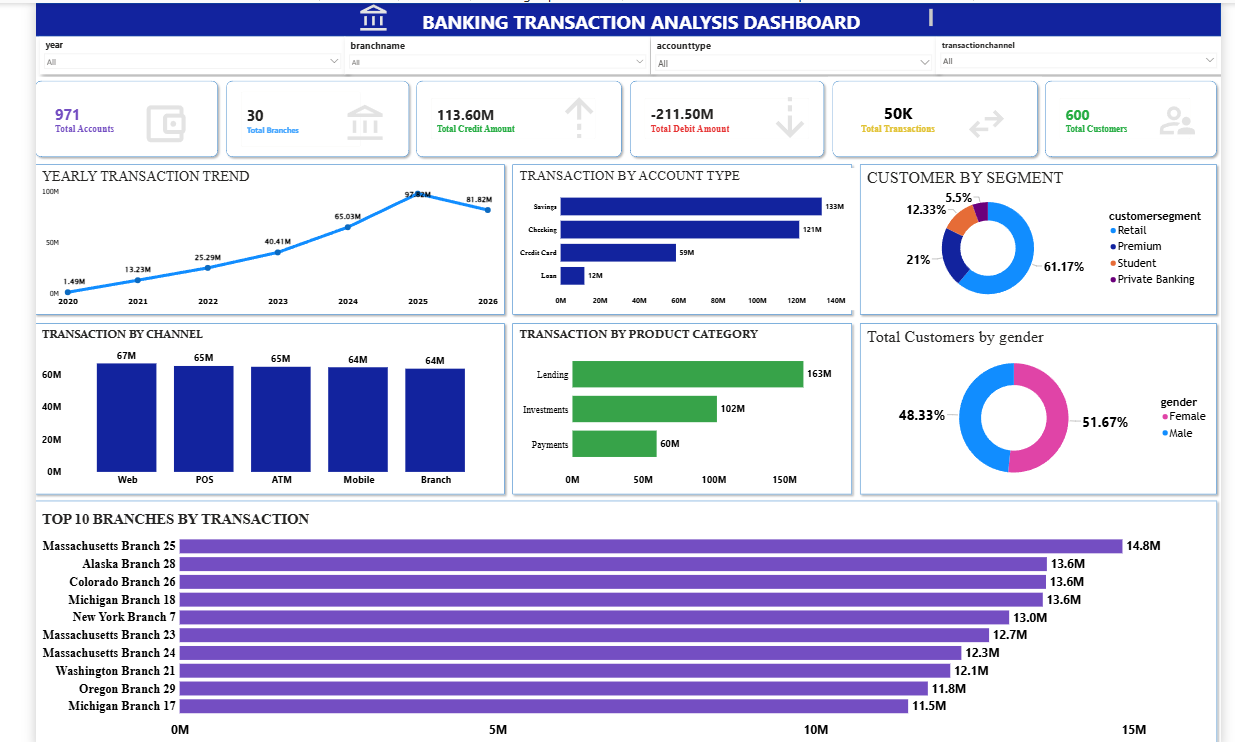

What the dashboard file says about the page in this screenshot:
{"tool":"powerbi","page":{"name":"FINAL","canvas":[2700,1700],"ordinal":9},"visuals":[{"type":"group","id":"g1","title":"Group 2","box":[-12,0,2712,144],"z":0},{"type":"shape","box":[-12,0,2712,75.8],"z":0,"group":"g1"},{"type":"slicer","fields":{"Values":["public dimdate.year"]},"box":[7.7,75.8,696.3,85.3],"z":0,"group":"g10"},{"type":"group","id":"g2","title":"Group 3","box":[-12,168,2712,192],"z":0,"group":"g5"},{"type":"group","id":"g3","title":"Group 6","box":[-12,360,2712,360],"z":0,"group":"g8"},{"type":"shape","box":[-12,1124,2712,576],"z":0,"group":"g9"},{"type":"group","id":"g4","title":"Group 1","box":[7.7,75.8,2692.3,68.2],"z":1000,"group":"g1"},{"type":"slicer","fields":{"Values":["public dimbranch.branchname"]},"box":[704,75.8,696.3,85.3],"z":1000,"group":"g10"},{"type":"group","id":"g5","title":"Group 4","box":[-12,168,2712,192],"z":1000,"group":"g11"},{"type":"shape","box":[1344,168,460.5,192],"z":1000,"group":"g2"},{"type":"cardVisual","fields":{"Data":["public dimaccount.Total Transactions"]},"box":[1815.7,192,294.8,144],"z":1000,"group":"g5"},{"type":"group","id":"g6","title":"Group 5","box":[-12,720,2712,408],"z":1000,"group":"g7"},{"type":"clusteredBarChart","title":"TOP 10 BRANCHES BY TRANSACTION","fields":{"Category":["public dimbranch.branchname"],"Y":["public dimaccount.Total Transaction Volume"]},"box":[7.9,1154,2672.1,528],"z":1000,"group":"g9"},{"type":"textbox","box":[717.2,9.5,1330.4,56.8],"z":2000,"group":"g1"},{"type":"slicer","fields":{"Values":["public dimaccount.accounttype"]},"box":[1400.3,75.8,649.9,85.3],"z":2000,"group":"g10"},{"type":"shape","box":[1804.5,168,486.1,192],"z":2000,"group":"g2"},{"type":"cardVisual","fields":{"Data":["public dimaccount.Total Customers"]},"box":[2316.2,200,332.6,128],"z":2000,"group":"g5"},{"type":"group","id":"g7","title":"Group 7","box":[-12,720,2712,408],"z":2000},{"type":"slicer","fields":{"Values":["public facttransaction.transactionchannel"]},"box":[2050.2,75.8,649.9,85.3],"z":3000,"group":"g10"},{"type":"shape","box":[2290.6,168,409.4,192],"z":3000,"group":"g2"},{"type":"cardVisual","fields":{"Data":["public dimaccount.Total Accounts"]},"box":[13.6,184,332.6,160],"z":3000,"group":"g5"},{"type":"group","id":"g8","title":"Group 8","box":[-12,360,2712,360],"z":3000},{"type":"shape","box":[-12,360,1088.8,360],"z":3000,"group":"g3"},{"type":"shape","box":[422.9,168,434.9,192],"z":4000,"group":"g2"},{"type":"cardVisual","fields":{"Data":["public dimaccount.Total Branches"]},"box":[448.5,184,307,160],"z":4000,"group":"g5"},{"type":"lineChart","title":"YEARLY TRANSACTION TREND","fields":{"Category":["public dimdate.year"],"Y":["public dimaccount.Total Transaction Volume"]},"box":[7.8,378,1049.2,324],"z":4000,"group":"g8"},{"type":"group","id":"g9","title":"Group 9","box":[-12,1124,2712,576],"z":4000},{"type":"group","id":"g10","title":"Group 10","box":[7.7,75.8,2692.3,68.2],"z":4001,"group":"g4"},{"type":"image","box":[608,8,288,48],"z":5000},{"type":"shape","box":[-12,168,434.9,192],"z":5000,"group":"g2"},{"type":"shape","box":[1076.8,360,791.8,360],"z":5000,"group":"g3"},{"type":"clusteredBarChart","title":"TRANSACTION BY ACCOUNT TYPE","fields":{"Category":["public dimaccount.accounttype"],"Y":["public dimaccount.Total Transaction Volume"]},"box":[1096.6,378,772,324],"z":5000,"group":"g8"},{"type":"shape","box":[857.9,168,486.1,192],"z":6000,"group":"g2"},{"type":"image","box":[1167.1,216,157.2,112],"z":6000,"group":"g5"},{"type":"image","box":[646.3,228,206.3,96],"z":6000,"group":"g11"},{"type":"clusteredColumnChart","title":"TRANSACTION BY CHANNEL","fields":{"Category":["public facttransaction.transactionchannel"],"Y":["public dimaccount.Total Transaction Volume"]},"box":[7.8,737,1049.2,374],"z":6000,"group":"g7"},{"type":"cardVisual","fields":{"Data":["public dimaccount.Total Credit Amount"]},"box":[883.5,200,409.4,128],"z":7000,"group":"g5"},{"type":"image","box":[1972.9,228,383.2,96],"z":7000,"group":"g11"},{"type":"shape","box":[1868.6,360,831.4,360],"z":7000,"group":"g3"},{"type":"donutChart","fields":{"Category":["public dimcustomer.gender"],"Y":["public dimaccount.Total Customers"]},"box":[1888.4,737,791.8,374],"z":7000,"group":"g7"},{"type":"cardVisual","fields":{"Data":["public dimaccount.Total Debit Amount"]},"box":[1369.6,200,409.4,128],"z":8000,"group":"g5"},{"type":"image","box":[2533,220,137.6,96],"z":8000,"group":"g11"},{"type":"donutChart","title":"CUSTOMER BY SEGMENT","fields":{"Category":["public dimcustomer.customersegment"],"Y":["public dimaccount.Total Customers"]},"box":[1888.4,378,791.8,324],"z":8000,"group":"g8"},{"type":"image","box":[174.7,220,235.8,112],"z":9000,"group":"g11"},{"type":"barChart","title":"TRANSACTION BY PRODUCT CATEGORY","fields":{"Y":["public dimaccount.Total Transaction Volume"],"Category":["public dimproductcategory.productcategoryname"]},"box":[1096.6,737,752.2,374],"z":9000,"group":"g7"},{"type":"image","box":[1629,204,176.9,112],"z":10000,"group":"g11"},{"type":"image","box":[1137.7,204,196.5,112],"z":11000,"group":"g11"},{"type":"group","id":"g11","title":"Group 11","box":[-12,168,2712,192],"z":11001},{"type":"shape","box":[1076.8,720,791.8,408],"z":13000,"group":"g6"},{"type":"shape","box":[-12,720,1088.8,408],"z":13500,"group":"g6"},{"type":"shape","box":[1868.6,720,831.4,408],"z":14000,"group":"g6"}]}

Visuals, with their boxes on the page's 2700x1700 design canvas (x1, y1, x2, y2). These are canvas units, not pixel positions in the 1235x742 screenshot, which may show the page scaled, cropped or inside an application window:
"Group 2" group: (left=-12, top=0, right=2700, bottom=144)
shape: (left=-12, top=0, right=2700, bottom=76)
slicer - public dimdate.year: (left=8, top=76, right=704, bottom=161)
"Group 3" group: (left=-12, top=168, right=2700, bottom=360)
"Group 6" group: (left=-12, top=360, right=2700, bottom=720)
shape: (left=-12, top=1124, right=2700, bottom=1700)
"Group 1" group: (left=8, top=76, right=2700, bottom=144)
slicer - public dimbranch.branchname: (left=704, top=76, right=1400, bottom=161)
"Group 4" group: (left=-12, top=168, right=2700, bottom=360)
shape: (left=1344, top=168, right=1804, bottom=360)
cardVisual - public dimaccount.Total Transactions: (left=1816, top=192, right=2110, bottom=336)
"Group 5" group: (left=-12, top=720, right=2700, bottom=1128)
"TOP 10 BRANCHES BY TRANSACTION" clusteredBarChart: (left=8, top=1154, right=2680, bottom=1682)
textbox: (left=717, top=10, right=2048, bottom=66)
slicer - public dimaccount.accounttype: (left=1400, top=76, right=2050, bottom=161)
shape: (left=1804, top=168, right=2291, bottom=360)
cardVisual - public dimaccount.Total Customers: (left=2316, top=200, right=2649, bottom=328)
"Group 7" group: (left=-12, top=720, right=2700, bottom=1128)
slicer - public facttransaction.transactionchannel: (left=2050, top=76, right=2700, bottom=161)
shape: (left=2291, top=168, right=2700, bottom=360)
cardVisual - public dimaccount.Total Accounts: (left=14, top=184, right=346, bottom=344)
"Group 8" group: (left=-12, top=360, right=2700, bottom=720)
shape: (left=-12, top=360, right=1077, bottom=720)
shape: (left=423, top=168, right=858, bottom=360)
cardVisual - public dimaccount.Total Branches: (left=448, top=184, right=756, bottom=344)
"YEARLY TRANSACTION TREND" lineChart: (left=8, top=378, right=1057, bottom=702)
"Group 9" group: (left=-12, top=1124, right=2700, bottom=1700)
"Group 10" group: (left=8, top=76, right=2700, bottom=144)
image: (left=608, top=8, right=896, bottom=56)
shape: (left=-12, top=168, right=423, bottom=360)
shape: (left=1077, top=360, right=1869, bottom=720)
"TRANSACTION BY ACCOUNT TYPE" clusteredBarChart: (left=1097, top=378, right=1869, bottom=702)
shape: (left=858, top=168, right=1344, bottom=360)
image: (left=1167, top=216, right=1324, bottom=328)
image: (left=646, top=228, right=853, bottom=324)
"TRANSACTION BY CHANNEL" clusteredColumnChart: (left=8, top=737, right=1057, bottom=1111)
cardVisual - public dimaccount.Total Credit Amount: (left=884, top=200, right=1293, bottom=328)
image: (left=1973, top=228, right=2356, bottom=324)
shape: (left=1869, top=360, right=2700, bottom=720)
donutChart - public dimcustomer.gender x public dimaccount.Total Customers: (left=1888, top=737, right=2680, bottom=1111)
cardVisual - public dimaccount.Total Debit Amount: (left=1370, top=200, right=1779, bottom=328)
image: (left=2533, top=220, right=2671, bottom=316)
"CUSTOMER BY SEGMENT" donutChart: (left=1888, top=378, right=2680, bottom=702)
image: (left=175, top=220, right=410, bottom=332)
"TRANSACTION BY PRODUCT CATEGORY" barChart: (left=1097, top=737, right=1849, bottom=1111)
image: (left=1629, top=204, right=1806, bottom=316)
image: (left=1138, top=204, right=1334, bottom=316)
"Group 11" group: (left=-12, top=168, right=2700, bottom=360)
shape: (left=1077, top=720, right=1869, bottom=1128)
shape: (left=-12, top=720, right=1077, bottom=1128)
shape: (left=1869, top=720, right=2700, bottom=1128)
